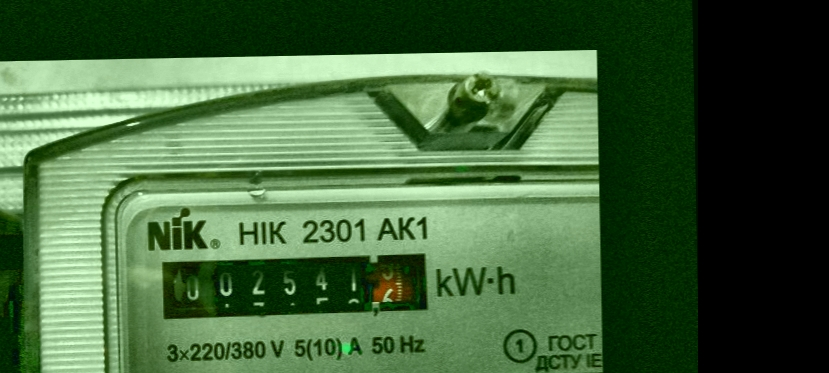0: (215, 267, 235, 300), (185, 273, 202, 303)
1: (343, 261, 360, 295)
2: (246, 265, 268, 299)
4: (312, 263, 330, 294)
5: (280, 267, 297, 299)
6: (379, 285, 395, 306)
screen: (147, 240, 449, 335)
